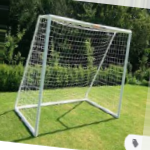goals: (13, 13, 132, 136)
